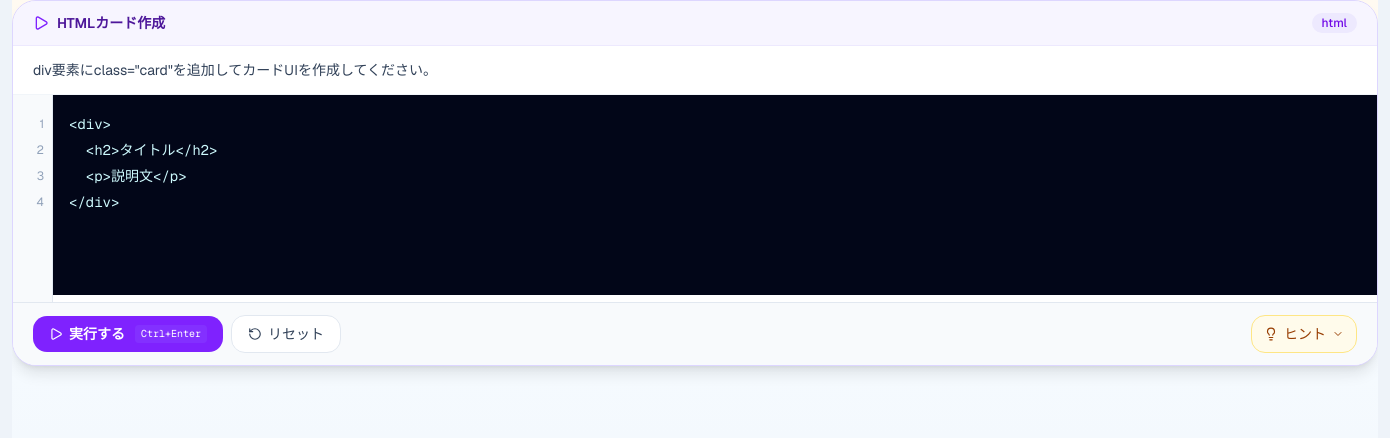
CodePlayground › shows hint when ヒント button clicked
Expected: the text "div要素にclass=\"card\"を追加します。" is not shown
Click the button "ヒント" at {"x": 1304, "y": 334}, box [1251,315,1357,353]
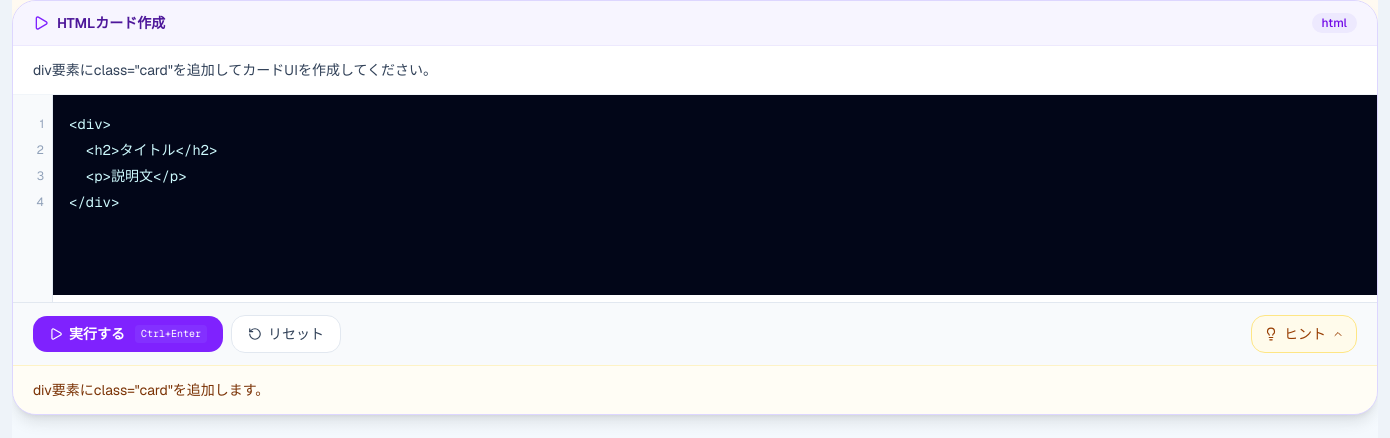
Now the text "div要素にclass=\"card\"を追加します。" is shown, box [33,381,269,399]
